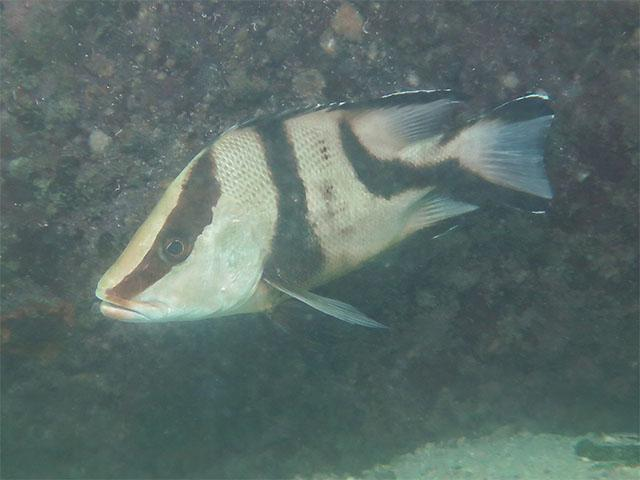Mulut: (72, 270, 170, 348)
Sirip Anal: (358, 176, 490, 258)
Sirip Dada: (258, 257, 398, 339)
Sirip Ekor: (448, 58, 586, 256)
Sirip Punggung: (210, 72, 472, 144)
